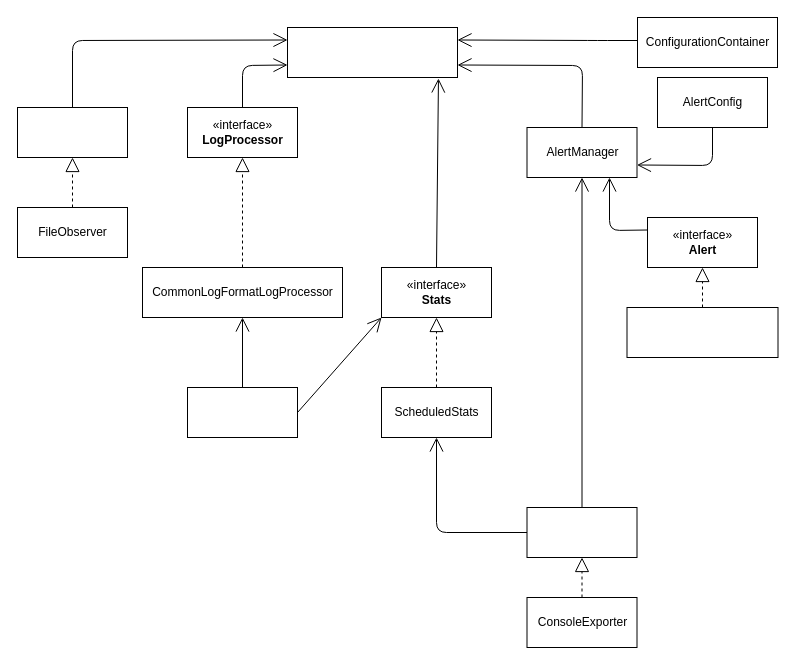
Some shapes in this 796 by 665 pixel diagram are drawn without their labels. Each missing label, with the centre of its shape:
"HighRequestRateAlert" goes at point 702,332.
"LogData" goes at point 242,412.
"LogMonitorService" goes at point 372,52.
"«interface» Exporter" goes at point 581,532.
"«interface» Observer" goes at point 72,132.
